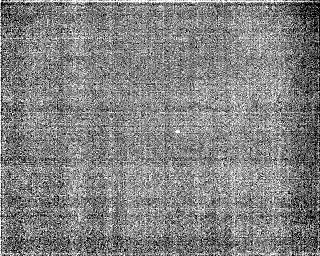AIRPLANE: (173, 127, 182, 137)
